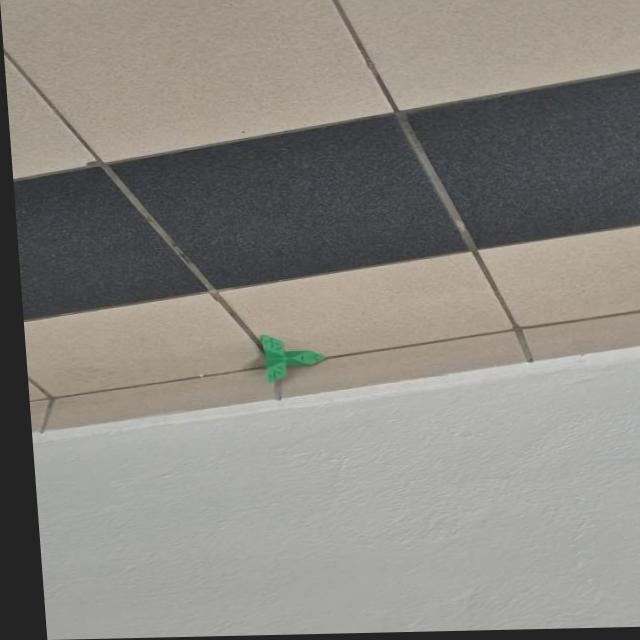eje: (258, 333, 329, 384)
